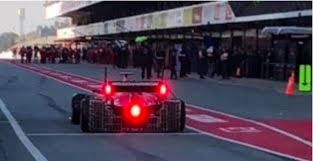f1_car: (66, 66, 195, 138)
